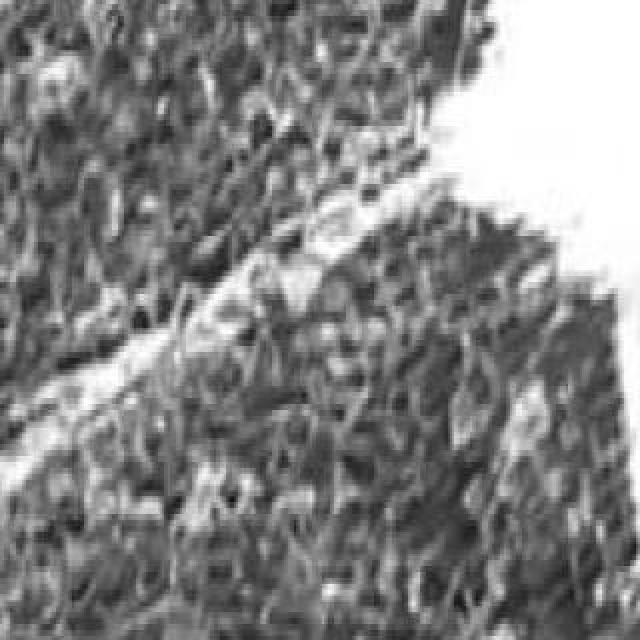Physical-damage: (50, 22, 620, 608)
